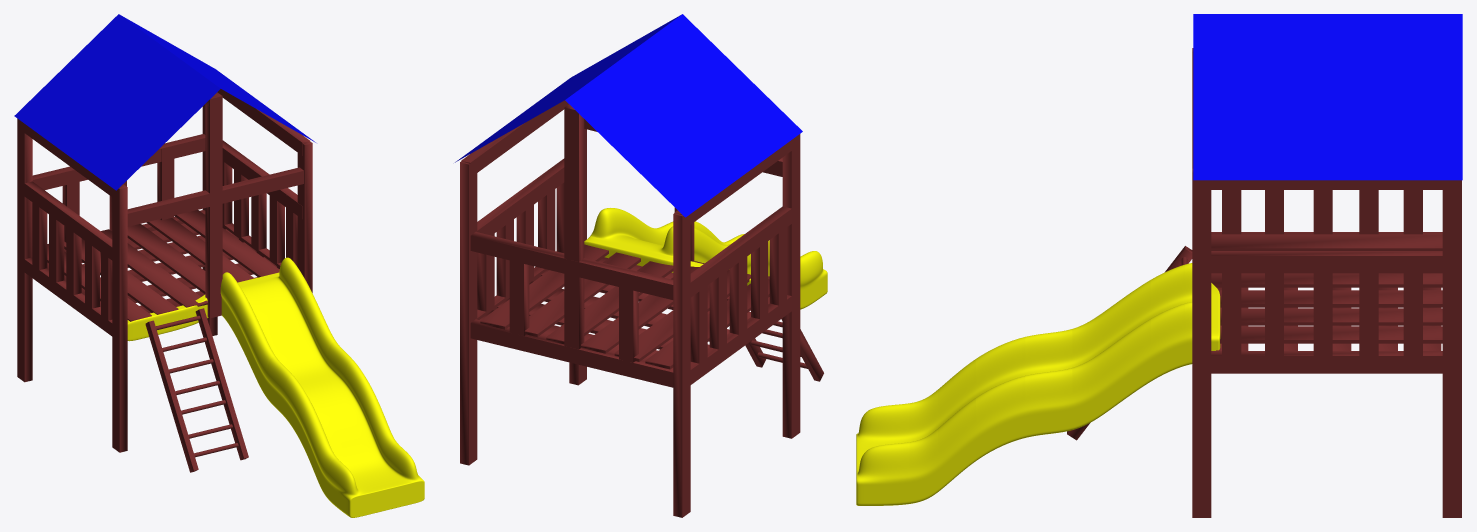
Rendered from 1_slide.fbx.
3 renders of one model, left to right at view 1: azimuth 30°, elevation 25°; view 2: azimuth 150°, elevation 25°; view 3: azimuth 270°, elevation 25°, orthographic. The views are drawn at different scales.
Visible parts, largest first — view 1: Null_Object HyperNURBS Cube7, Null_Object Plane1, Null_Object Cube28, Null_Object Cube, Null_Object Cube14, Null_Object Cube24, Null_Object Cube23, Null_Object Cube4, Null_Object Cube32, Null_Object Cube19, Null_Object Plane2, Null_Object Cube2 (+22 smaller); view 2: Null_Object Plane1, Null_Object HyperNURBS Cube7, Null_Object Cube14, Null_Object Cube21, Null_Object Cube28, Null_Object Cube8, Null_Object Cube11, Null_Object Cube12, Null_Object Cube4, Null_Object Plane2, Null_Object Cube6, Null_Object Cube2 (+22 smaller); view 3: Null_Object Plane2, Null_Object HyperNURBS Cube7, Null_Object Cube23, Null_Object Cube21, Null_Object Cube43, Null_Object Cube5, Null_Object Cube17, Null_Object Cube32, Null_Object Cube6, Null_Object Cube2, Null_Object Cube3, Null_Object Cube19 (+10 smaller).
Boxes of the visible parts, <box> form: Null_Object HyperNURBS Cube7: <box>127,257,424,517</box>; Null_Object Plane1: <box>14,14,220,190</box>; Null_Object Cube28: <box>112,184,127,452</box>; Null_Object Cube: <box>205,93,222,318</box>; Null_Object Cube14: <box>17,118,32,382</box>; Null_Object Cube24: <box>127,167,303,226</box>; Null_Object Cube23: <box>297,141,312,292</box>; Null_Object Cube4: <box>18,179,117,264</box>; Null_Object Cube32: <box>127,224,205,293</box>; Null_Object Cube19: <box>101,229,207,307</box>; Null_Object Plane2: <box>120,15,315,142</box>; Null_Object Cube2: <box>174,210,279,277</box>; Null_Object Plane1: <box>565,14,802,217</box>; Null_Object HyperNURBS Cube7: <box>584,208,827,309</box>; Null_Object Cube14: <box>673,213,690,517</box>; Null_Object Cube21: <box>460,161,477,465</box>; Null_Object Cube28: <box>782,134,800,438</box>; Null_Object Cube8: <box>564,104,584,349</box>; Null_Object Cube11: <box>470,232,673,299</box>; Null_Object Cube12: <box>470,319,673,387</box>; Null_Object Cube4: <box>683,206,791,302</box>; Null_Object Plane2: <box>455,14,681,162</box>; Null_Object Cube6: <box>524,252,640,337</box>; Null_Object Cube2: <box>480,244,608,329</box>; Null_Object Plane2: <box>1193,14,1462,180</box>; Null_Object HyperNURBS Cube7: <box>856,263,1220,505</box>; Null_Object Cube23: <box>1192,168,1211,517</box>; Null_Object Cube21: <box>1442,180,1461,517</box>; Null_Object Cube43: <box>1211,251,1442,273</box>; Null_Object Cube5: <box>1211,351,1442,373</box>; Null_Object Cube17: <box>1211,234,1442,250</box>; Null_Object Cube32: <box>1218,290,1442,307</box>; Null_Object Cube6: <box>1220,308,1442,325</box>; Null_Object Cube2: <box>1220,326,1442,343</box>; Null_Object Cube3: <box>1211,180,1442,189</box>; Null_Object Cube19: <box>1211,273,1442,287</box>.
Bounding box in the file's own units: 126 × 248 × 202.
